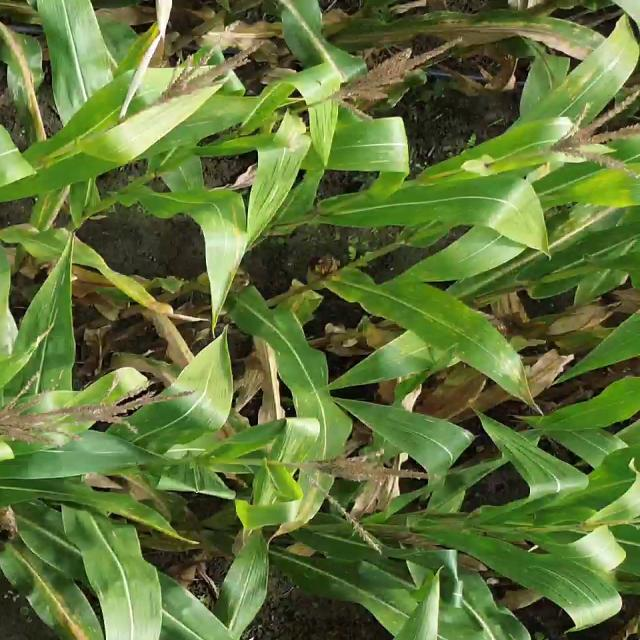northern-leaf-blight: (362, 20, 602, 53), (18, 561, 95, 632), (218, 206, 248, 262)
